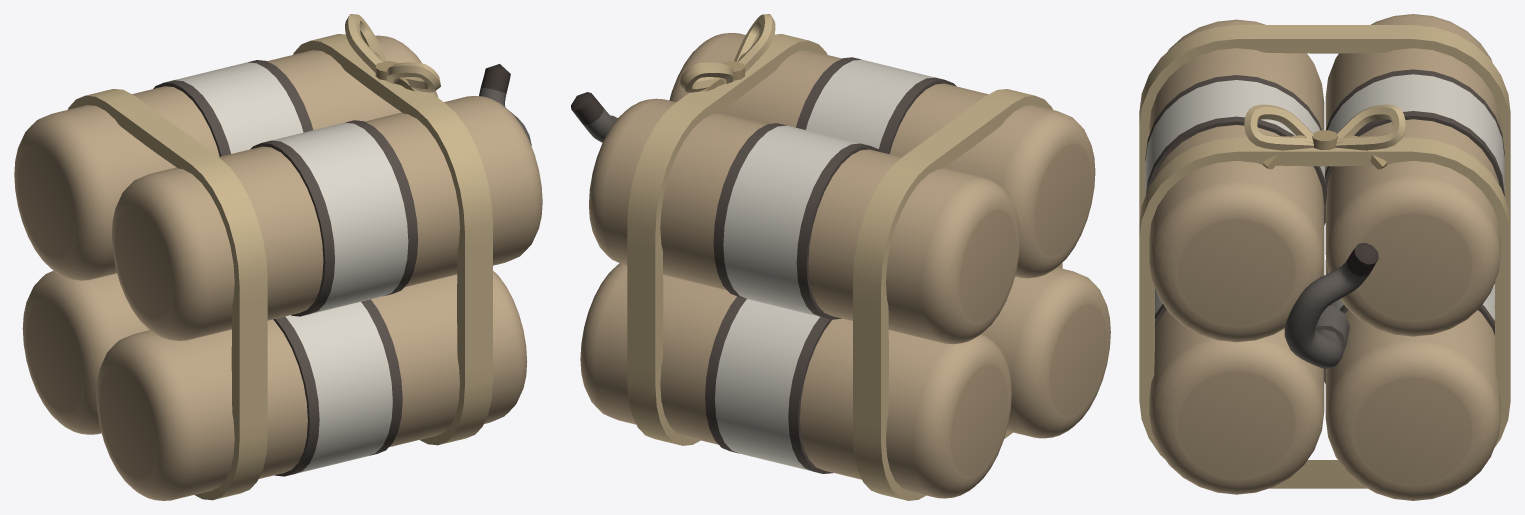
File: dynamite_c_bundle_tan.glb
3 views of the same model, side by side, from view 1: azimuth 30°, elevation 25°; view 2: azimuth 150°, elevation 25°; view 3: azimuth 270°, elevation 25° (orthographic). The views are drawn at different scales.
Visible parts, largest first — view 1: Dynamite; view 2: Dynamite; view 3: Dynamite.
Part boxes in pixels (<box>): Dynamite: <box>14,14,542,500</box>; Dynamite: <box>571,14,1110,500</box>; Dynamite: <box>1139,14,1510,500</box>.
Size of the model in its own units: 0.6288 by 0.4946 by 0.446.
